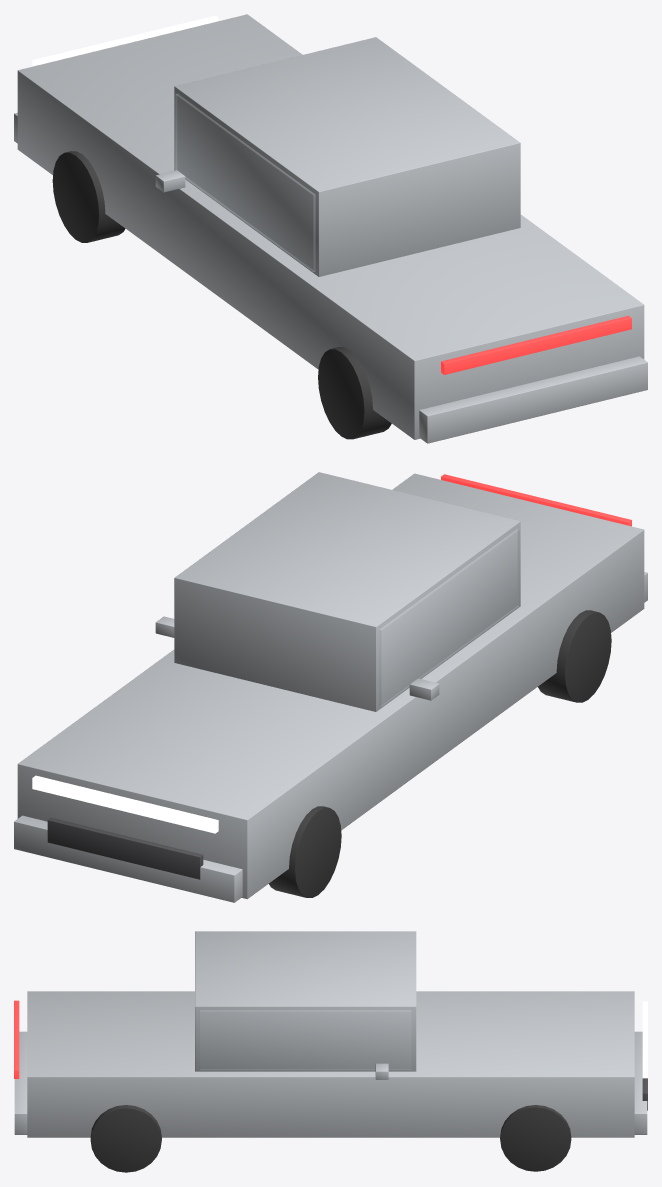
Rendered from vehicle.glb.
3 views of the same model, one above another, from view 1: azimuth 30°, elevation 25°; view 2: azimuth 150°, elevation 25°; view 3: azimuth 270°, elevation 25° (orthographic). The views are drawn at different scales.
Visible parts, largest first — view 1: BODY_Main, BODY_Roof, GLASS_Greenhouse, BODY_Bumpers_Rear, WHEEL_RR_Tire, WHEEL_FR_Tire, LIGHT_Taillights, LIGHT_Headlights; view 2: BODY_Main, BODY_Roof, GLASS_Greenhouse, BODY_Bumpers_Front, WHEEL_RR_Tire, BODY_Grille, WHEEL_FR_Tire, LIGHT_Headlights, LIGHT_Taillights; view 3: BODY_Main, BODY_Roof, GLASS_Greenhouse, WHEEL_RL_Tire, WHEEL_FL_Tire, BODY_Bumpers_Rear, BODY_Bumpers_Front, LIGHT_Taillights, LIGHT_Headlights.
Boxes of the visible parts, left/top/right/bottom form: BODY_Main: left=17, top=14, right=644, bottom=439; BODY_Roof: left=174, top=37, right=520, bottom=276; GLASS_Greenhouse: left=175, top=94, right=315, bottom=271; BODY_Bumpers_Rear: left=419, top=356, right=647, bottom=443; WHEEL_RR_Tire: left=318, top=347, right=391, bottom=439; WHEEL_FR_Tire: left=52, top=151, right=125, bottom=242; LIGHT_Taillights: left=441, top=315, right=631, bottom=374; LIGHT_Headlights: left=32, top=15, right=218, bottom=66; BODY_Main: left=17, top=473, right=644, bottom=899; BODY_Roof: left=174, top=472, right=520, bottom=711; GLASS_Greenhouse: left=379, top=529, right=519, bottom=706; BODY_Bumpers_Front: left=14, top=815, right=242, bottom=902; WHEEL_RR_Tire: left=538, top=610, right=611, bottom=702; BODY_Grille: left=47, top=817, right=203, bottom=879; WHEEL_FR_Tire: left=269, top=806, right=341, bottom=897; LIGHT_Headlights: left=32, top=775, right=218, bottom=833; LIGHT_Taillights: left=441, top=474, right=631, bottom=526; BODY_Main: left=27, top=991, right=634, bottom=1137; BODY_Roof: left=195, top=931, right=416, bottom=1071; GLASS_Greenhouse: left=200, top=1010, right=411, bottom=1070; WHEEL_RL_Tire: left=90, top=1105, right=161, bottom=1172; WHEEL_FL_Tire: left=500, top=1105, right=571, bottom=1171; BODY_Bumpers_Rear: left=14, top=1031, right=27, bottom=1134; BODY_Bumpers_Front: left=634, top=1031, right=647, bottom=1134; LIGHT_Taillights: left=14, top=1000, right=19, bottom=1078; LIGHT_Headlights: left=642, top=1001, right=647, bottom=1078.
Bounding box in the file's own units: 2.29 × 1.64 × 5.96.
